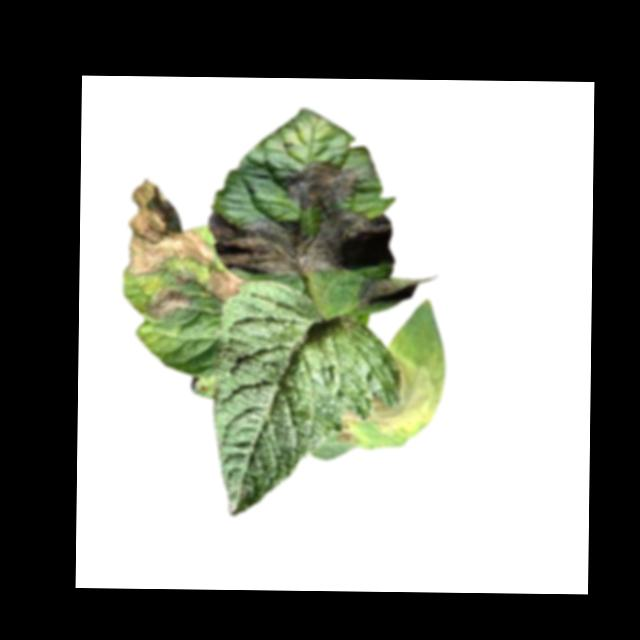Late_blight: (206, 160, 396, 276), (121, 176, 215, 276), (340, 352, 435, 433), (355, 275, 433, 312), (202, 265, 244, 301), (144, 289, 189, 321), (336, 431, 359, 445)
healthy: (212, 279, 402, 516)
